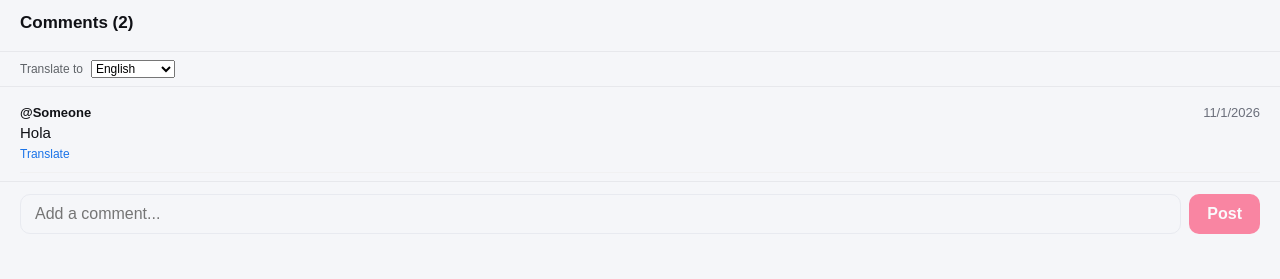
CommentsPanel › shows an error when translation is unavailable
Click the button "Translate": x=45, y=154 [20, 147, 70, 161]
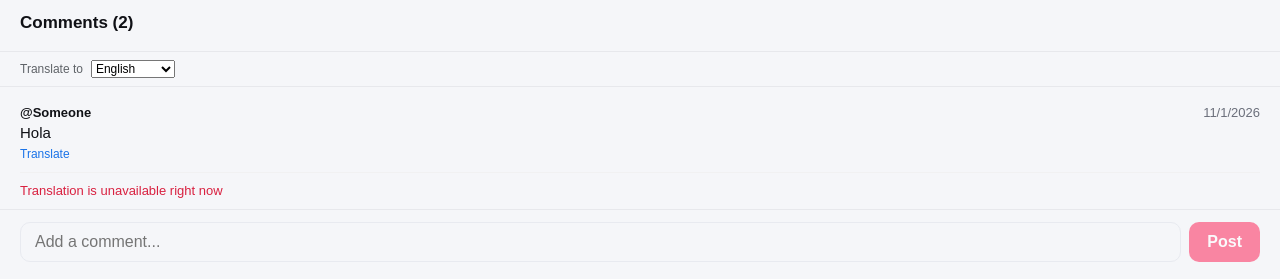
Result: the text "Translation is unavailable right now" is shown at [20, 183, 223, 198]
